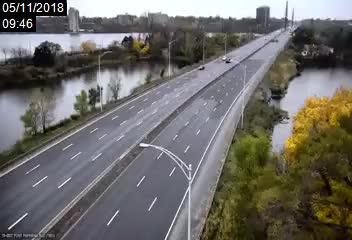personal_car: (197, 64, 205, 70), (222, 55, 226, 62), (225, 58, 230, 63)
